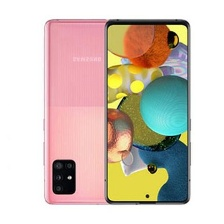phone: (38, 16, 133, 210), (102, 15, 194, 207)
